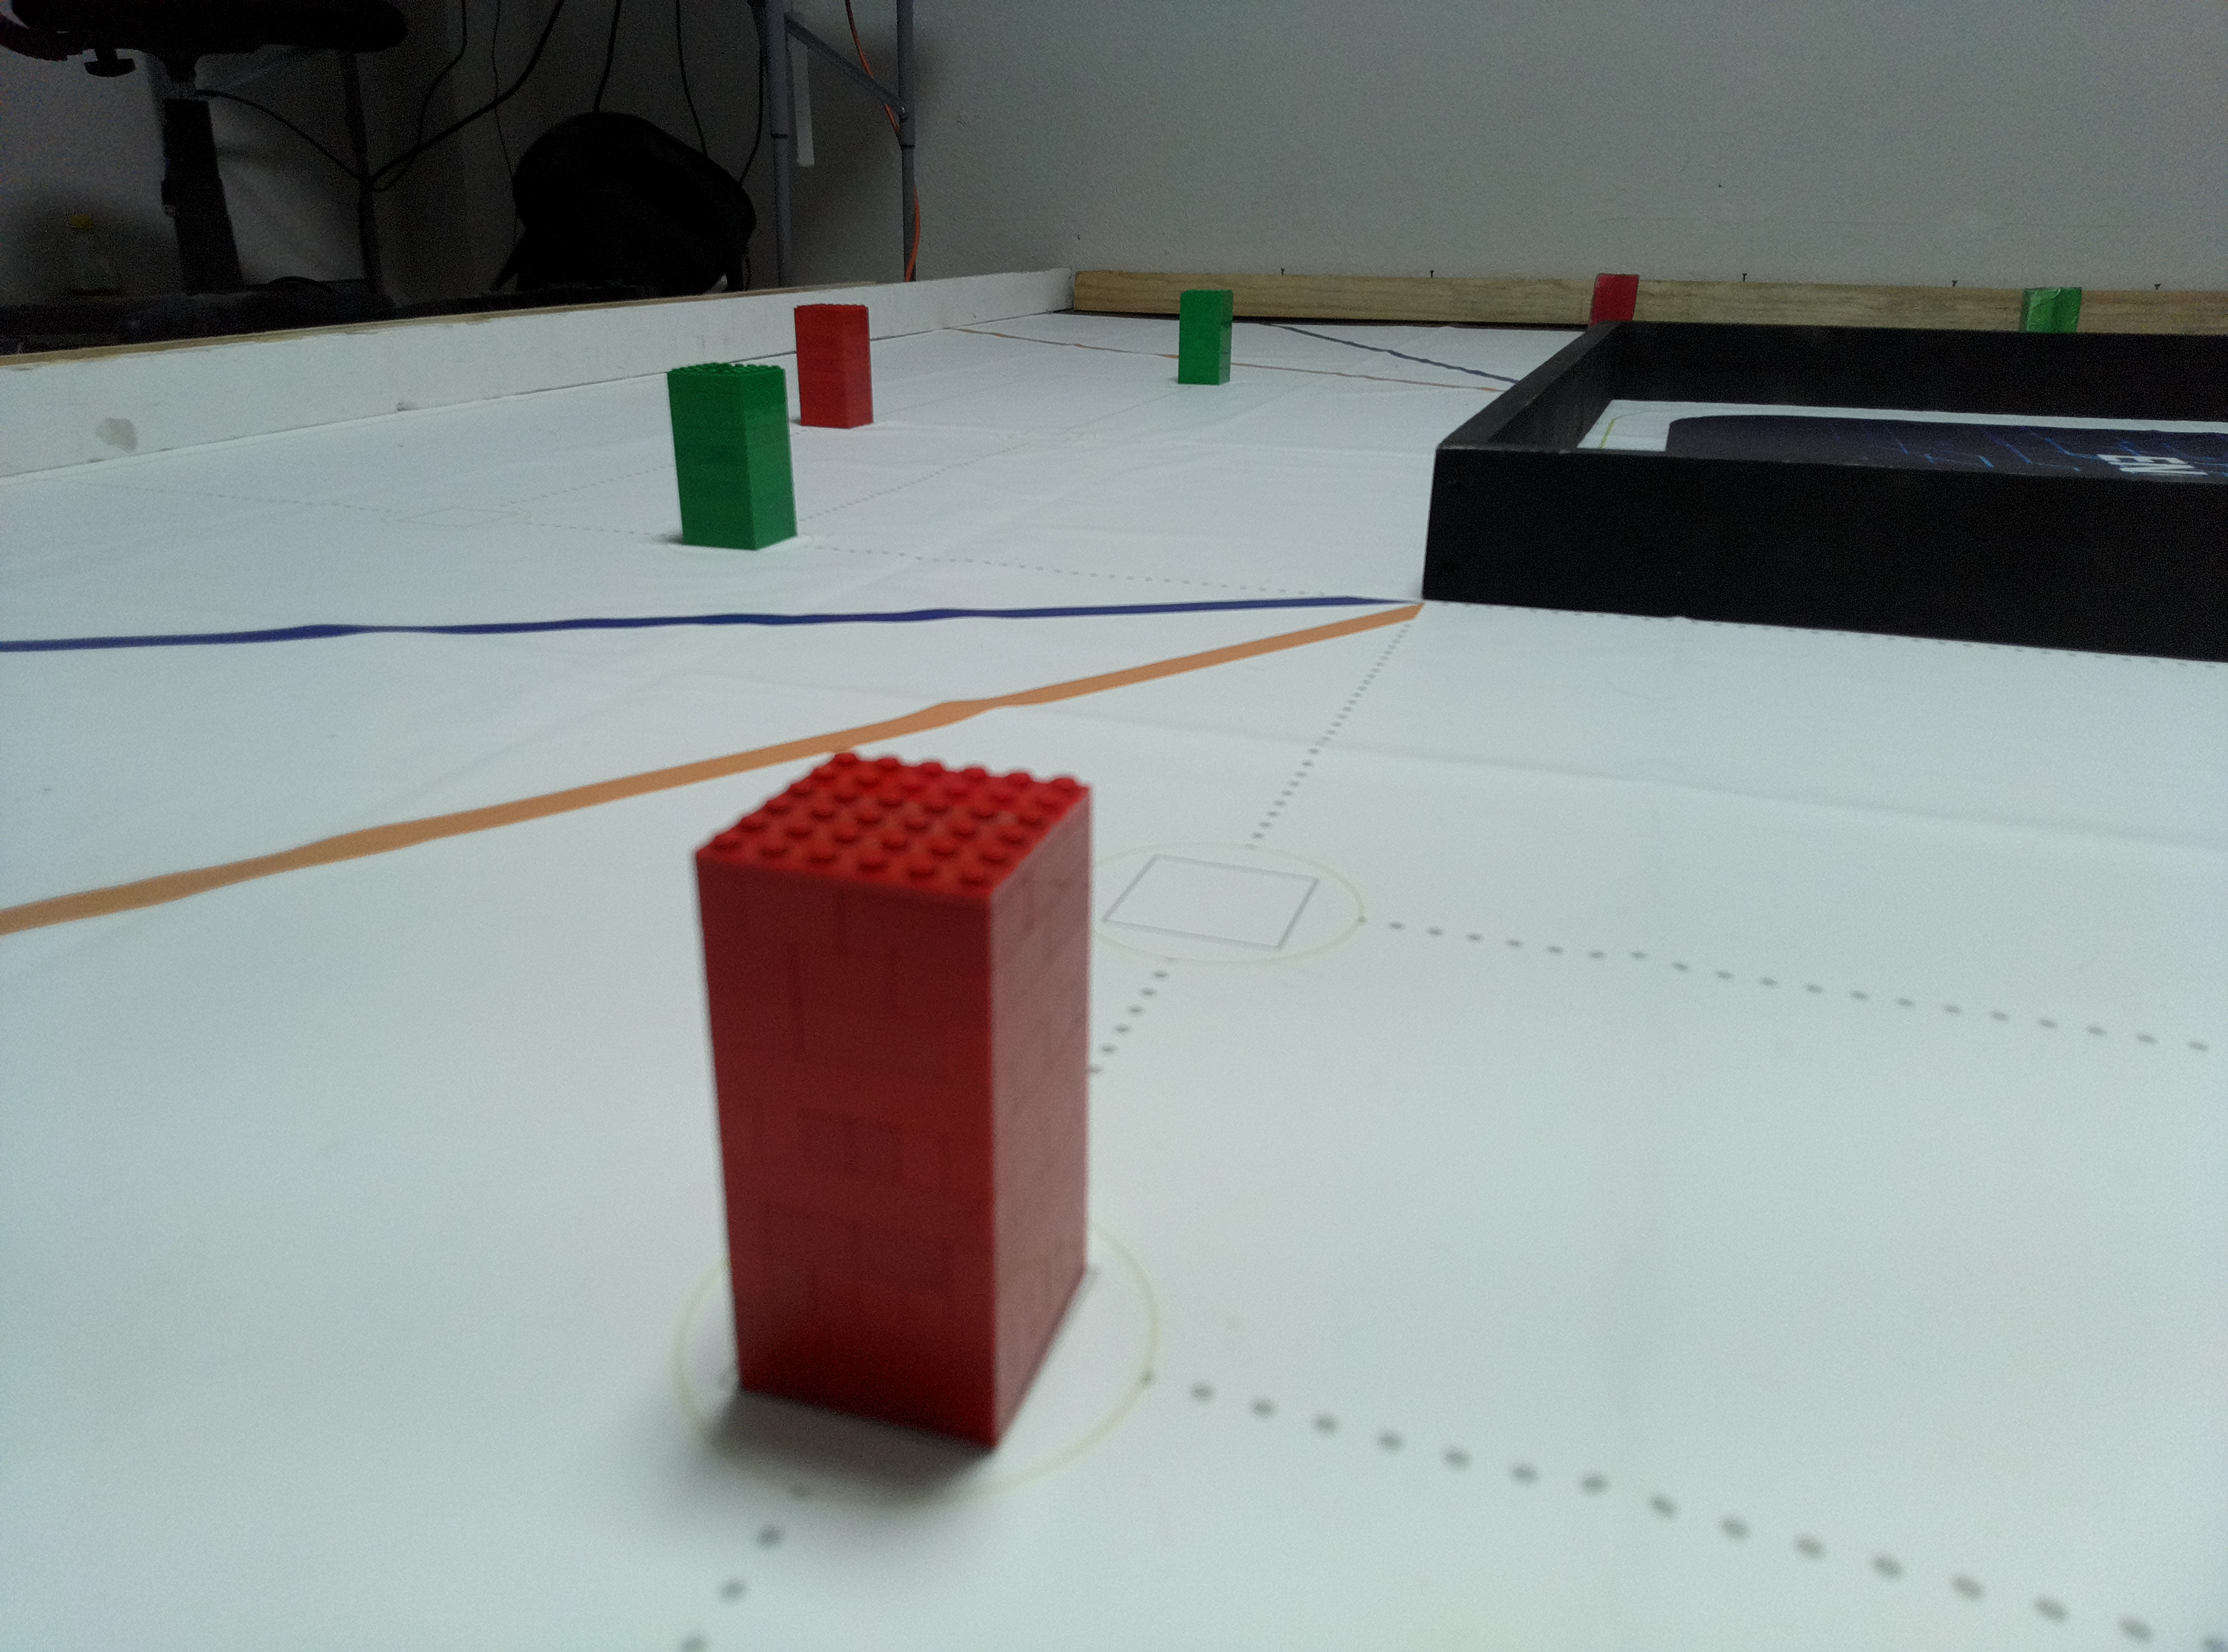greenbox: (665, 363, 800, 554), (1176, 286, 1235, 387), (2016, 285, 2084, 331)
redbox: (687, 746, 1095, 1456), (791, 302, 876, 430), (1588, 271, 1640, 323)
